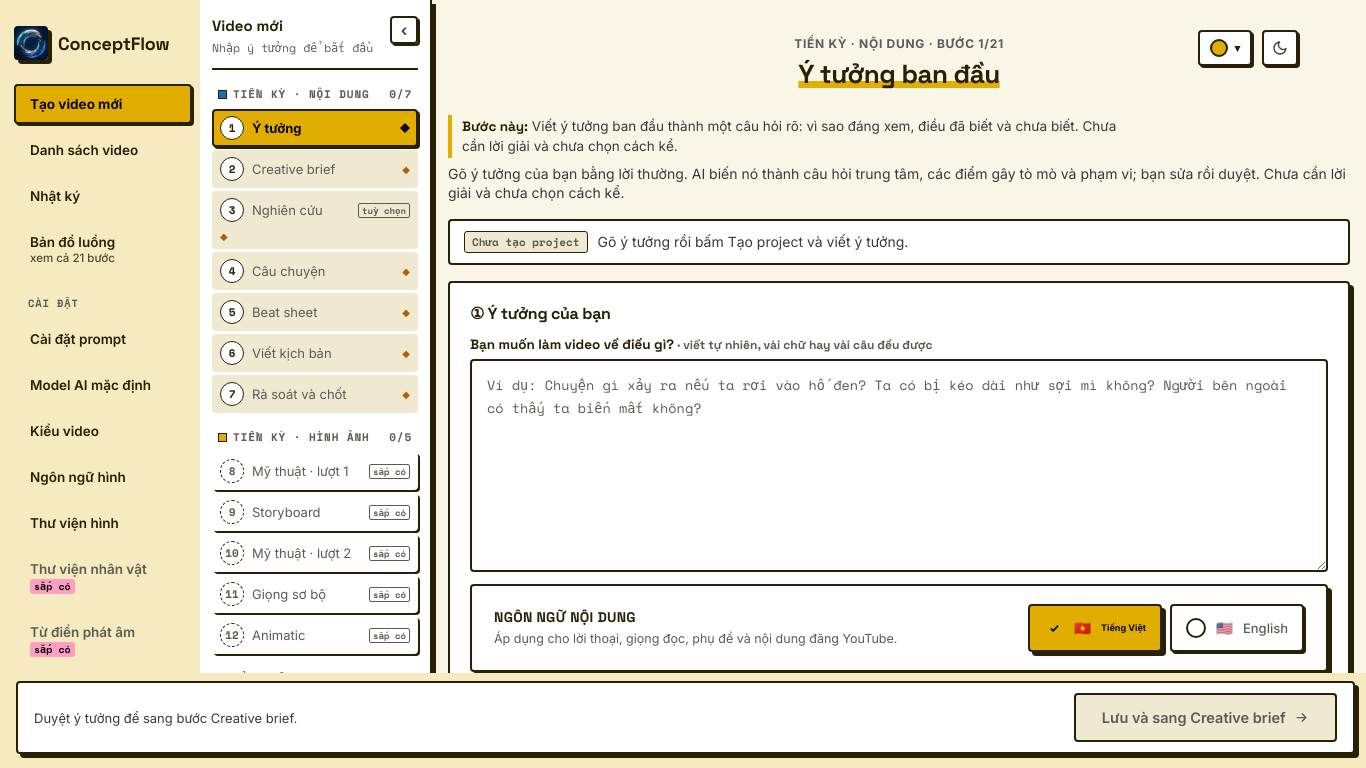
it: ScriptStepPage (Bước 1 — Ý tưởng) › tạo project rồi mở hộp thoại AI ngoài để viết ý tưởng, không gọi AI của hệ thống
The width and height of the screenshot is (1366, 768).
Replace the text in the text box with test id "script-step-topic" with "Chuyện gì xảy ra nếu ta rơi vào hố đen?". click: (899, 466)
box: [470,359,1328,572]
(page scrolled)
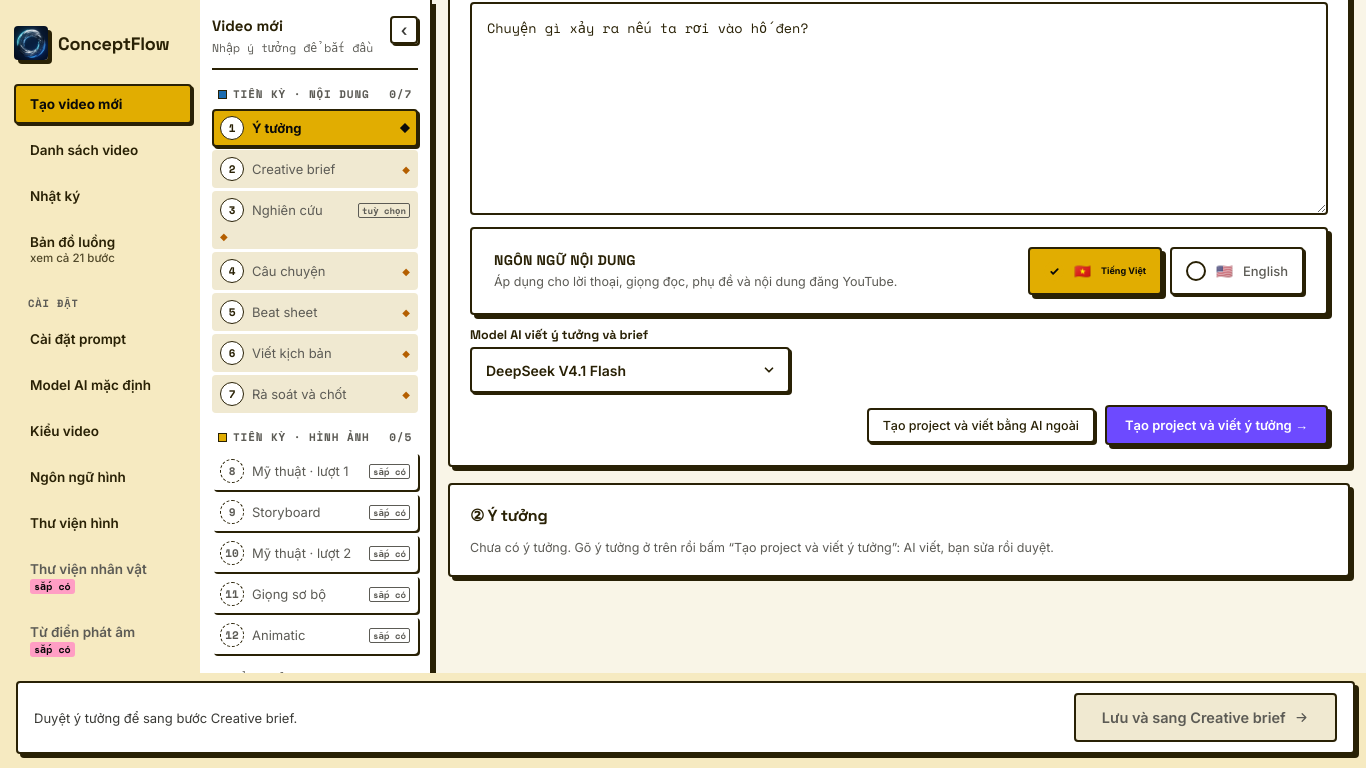
Click the button with test id "script-step-create-external". click: (981, 426)
box: [867,408,1095,443]
(page scrolled)
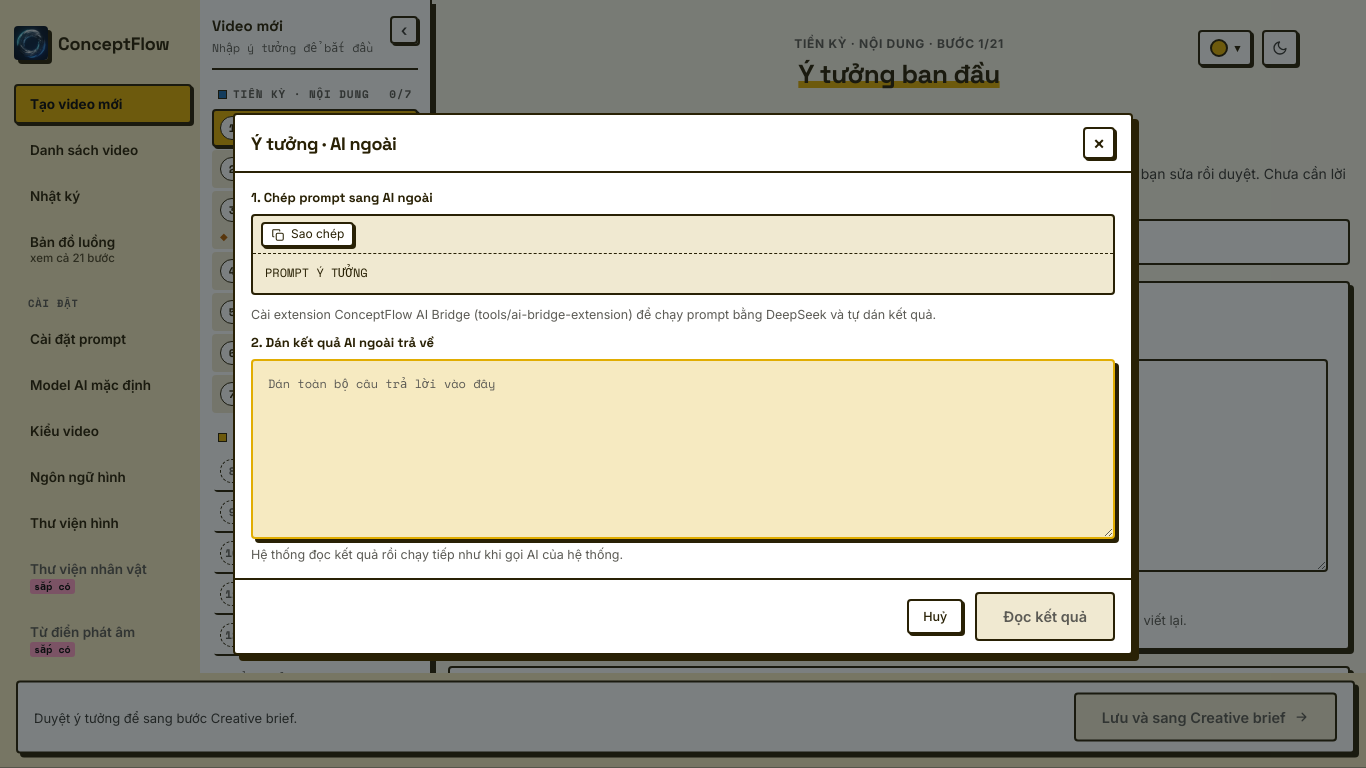
Expected: the text with test id "idea-create-external-dialog-prompt" reads "PROMPT Ý TƯỞNG", [265,264,368,281]
